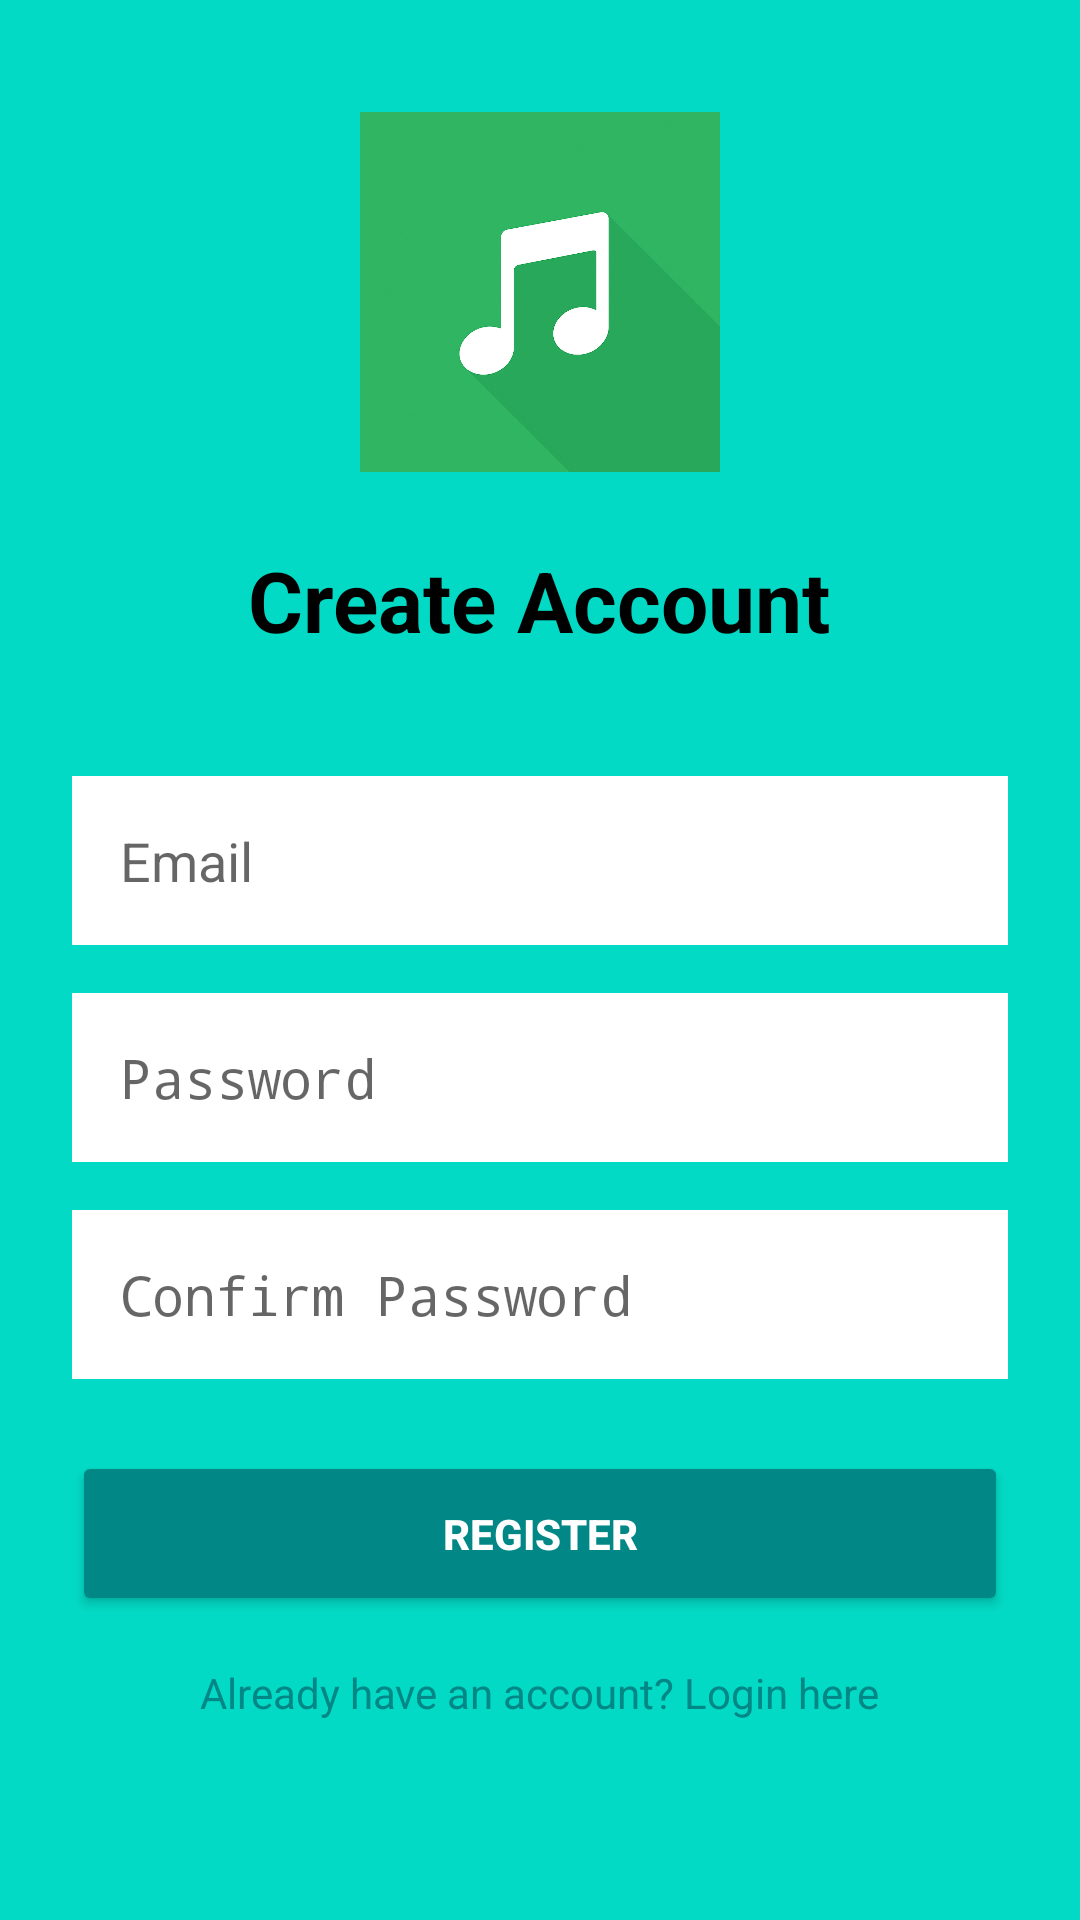

Screen size 1080 × 1920. Icon name, then its box in pixels as (left=x1, top=y1, right=x2, bottom=y2):
concert: (left=360, top=112, right=720, bottom=472)
